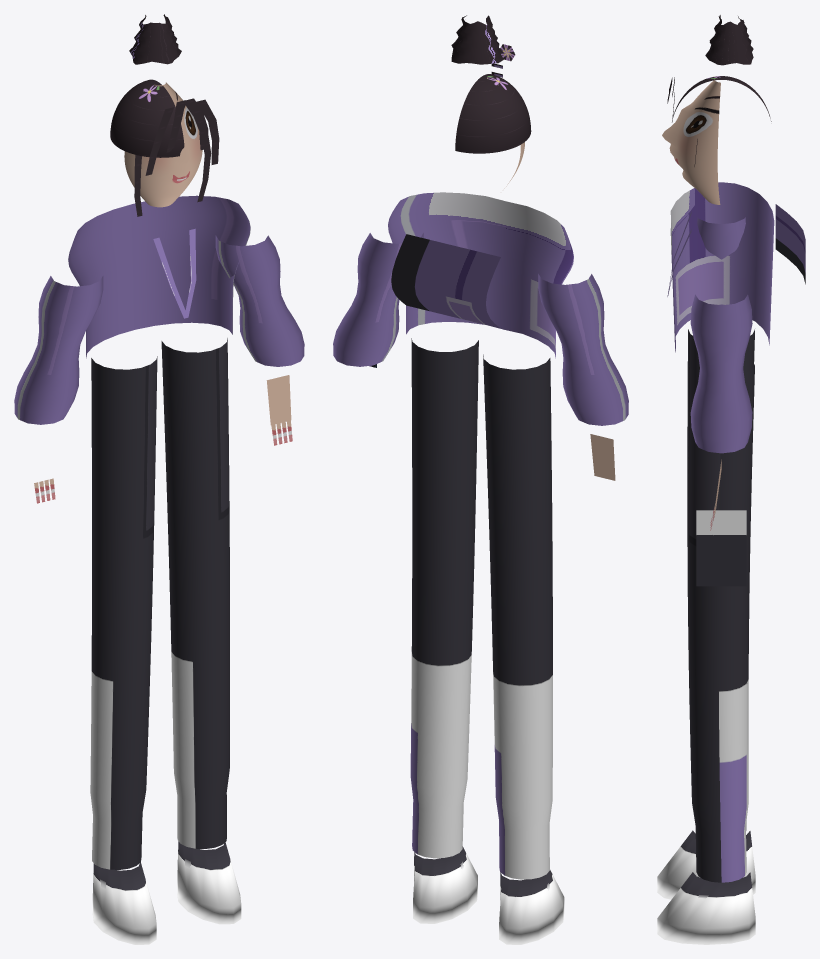
Rendered from asha_prototype_v1.glb.
The picture shows the model from 3 angles, left to right: view 1: azimuth 30°, elevation 25°; view 2: azimuth 150°, elevation 25°; view 3: azimuth 270°, elevation 25°; orthographic projection.
Visible parts, largest first — view 1: Asha_Prototype_Body; view 2: Asha_Prototype_Body; view 3: Asha_Prototype_Body.
Boxes of the visible parts, box(x1,y1,x2,y2) form: Asha_Prototype_Body: box(14, 14, 304, 944); Asha_Prototype_Body: box(333, 15, 628, 944); Asha_Prototype_Body: box(657, 15, 805, 944).
Bounding box in the file's own units: 0.548 × 1.65 × 0.247.
Materials: 1 (1 with a texture image).
